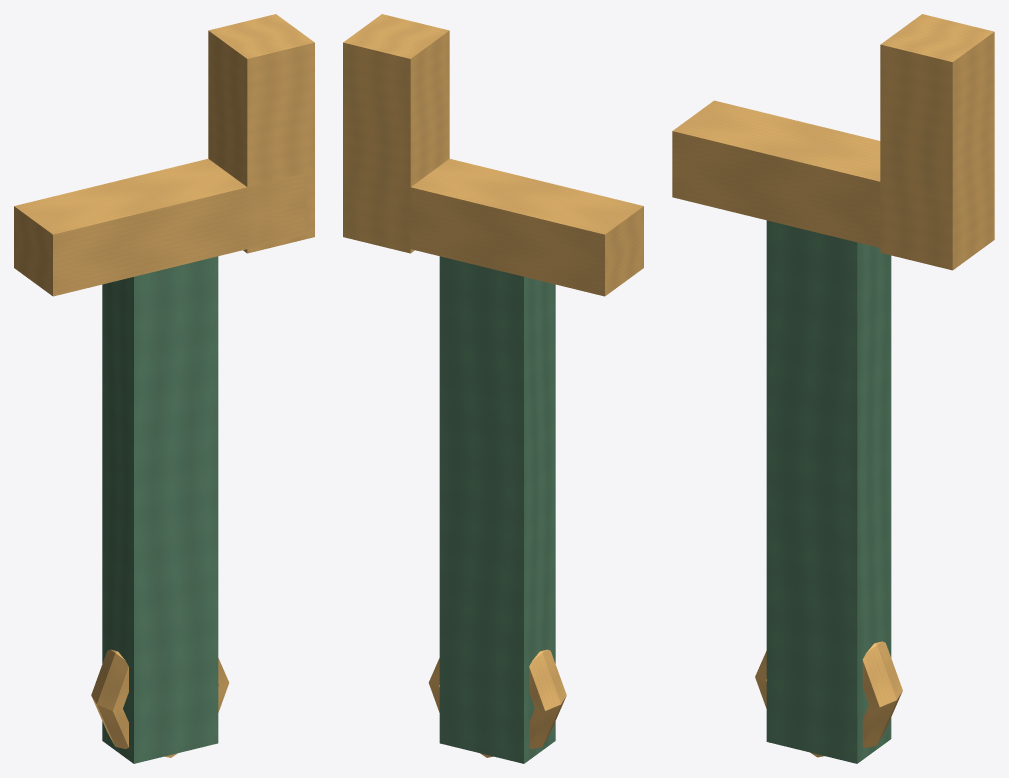
File: atlas100-s002-a05.lod2.glb
3 renders of one model, left to right at view 1: azimuth 30°, elevation 25°; view 2: azimuth 150°, elevation 25°; view 3: azimuth 330°, elevation 25°, orthographic. The views are drawn at different scales.
Parts seen in each view (by area): view 1: atlas100-s002-a05:part-000, atlas100-s002-a05:part-003, atlas100-s002-a05:part-002, atlas100-s002-a05:part-004; view 2: atlas100-s002-a05:part-000, atlas100-s002-a05:part-003, atlas100-s002-a05:part-002, atlas100-s002-a05:part-004; view 3: atlas100-s002-a05:part-000, atlas100-s002-a05:part-002, atlas100-s002-a05:part-003, atlas100-s002-a05:part-004.
Part boxes in pixels (x1,y1,x2,y2): atlas100-s002-a05:part-000: (102, 256, 218, 763); atlas100-s002-a05:part-003: (14, 158, 306, 296); atlas100-s002-a05:part-002: (208, 14, 314, 253); atlas100-s002-a05:part-004: (91, 649, 229, 757); atlas100-s002-a05:part-000: (439, 256, 555, 763); atlas100-s002-a05:part-003: (351, 158, 643, 296); atlas100-s002-a05:part-002: (343, 14, 449, 253); atlas100-s002-a05:part-004: (428, 649, 566, 757); atlas100-s002-a05:part-000: (766, 220, 891, 763); atlas100-s002-a05:part-002: (880, 14, 994, 270); atlas100-s002-a05:part-003: (672, 100, 943, 260); atlas100-s002-a05:part-004: (755, 641, 902, 757).
Bounding box in the file's own units: 0.3385 × 0.8572 × 0.0874.
2 materials, 2 textured.
